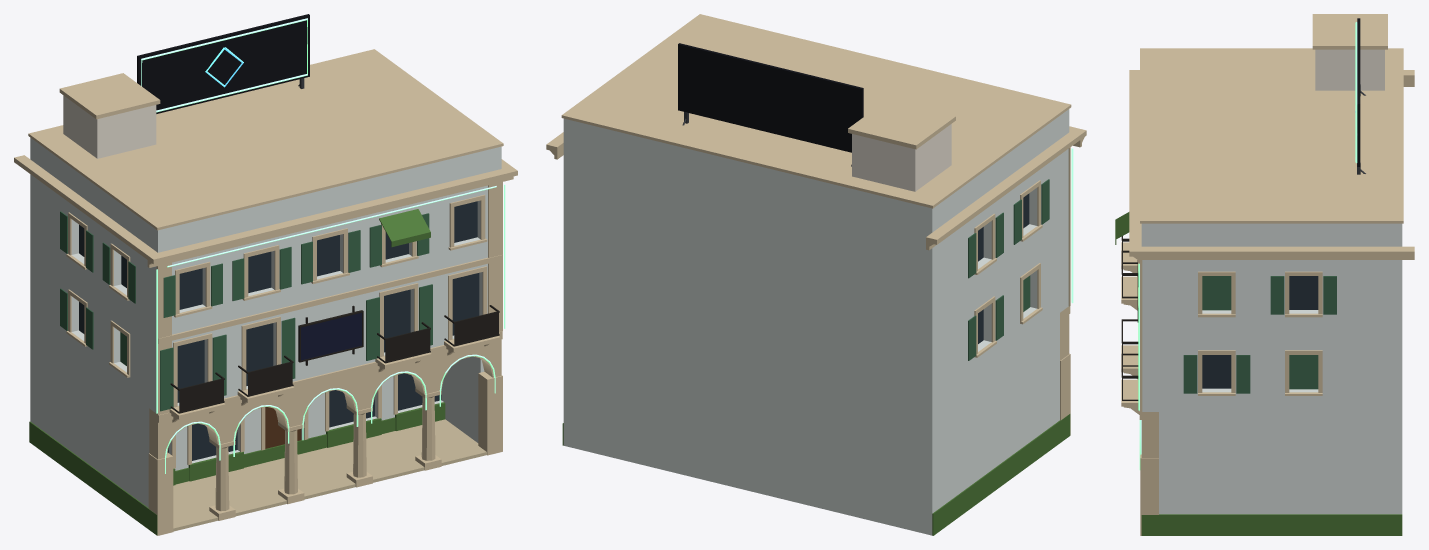
3 renders of one model, left to right at view 1: azimuth 30°, elevation 25°; view 2: azimuth 150°, elevation 25°; view 3: azimuth 270°, elevation 25°, orthographic. The views are drawn at different scales.
Visible parts, largest first — view 1: sandbox.lod1; view 2: sandbox.lod1; view 3: sandbox.lod1.
Boxes of the visible parts, box(x1,y1,x2,y2) form: sandbox.lod1: box(14, 14, 517, 535); sandbox.lod1: box(546, 14, 1086, 535); sandbox.lod1: box(1115, 14, 1414, 535).
Bounding box in the file's own units: 14.84 × 14.8 × 10.32.
